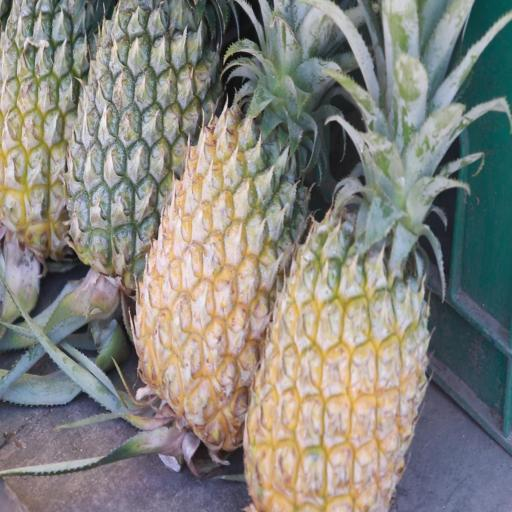------------------------------: (0, 0, 122, 278)
Pineapple - v8 v1: (129, 2, 315, 464), (240, 134, 434, 512)
